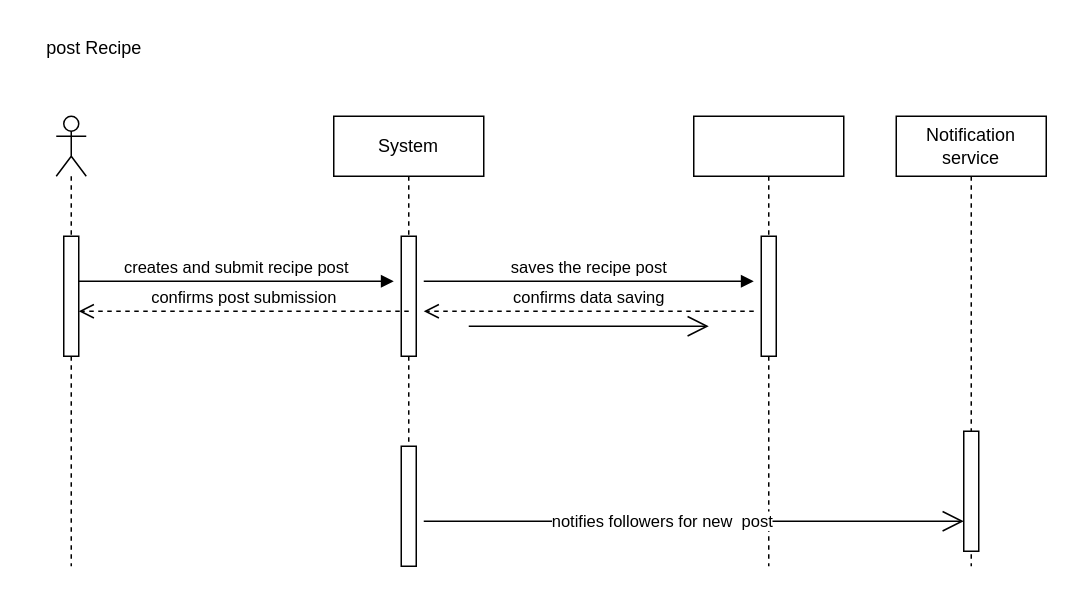
Image size: 1073x593. Some labels were removed from this diagram. The box of each missing label's shape, as (x1, y1, x2, y2) in pixels:
Database: (692, 115, 844, 566)
user: (55, 115, 86, 566)
